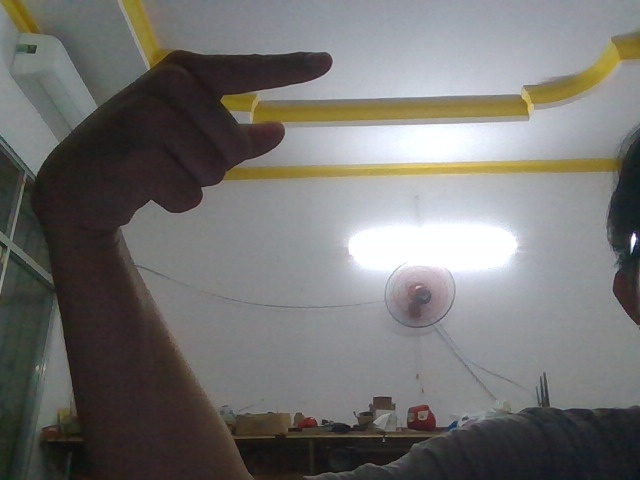turn_left: (25, 44, 341, 237)
